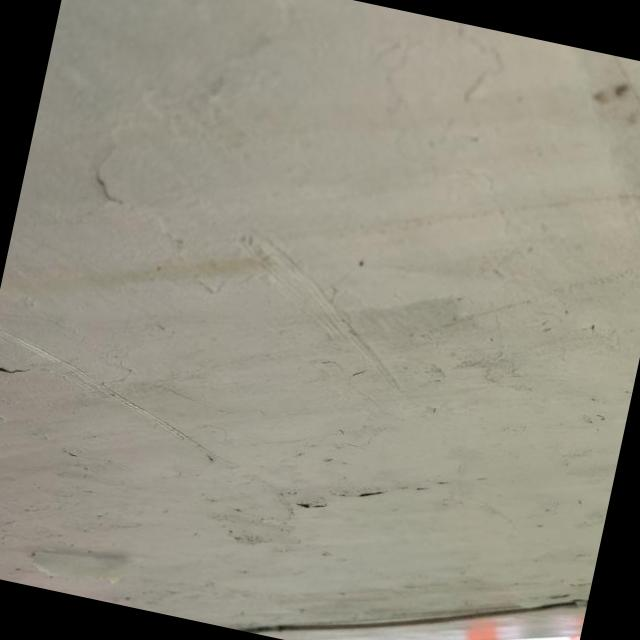Paint-off: (11, 542, 125, 604)
Scratch: (0, 331, 221, 462), (239, 230, 399, 392)
